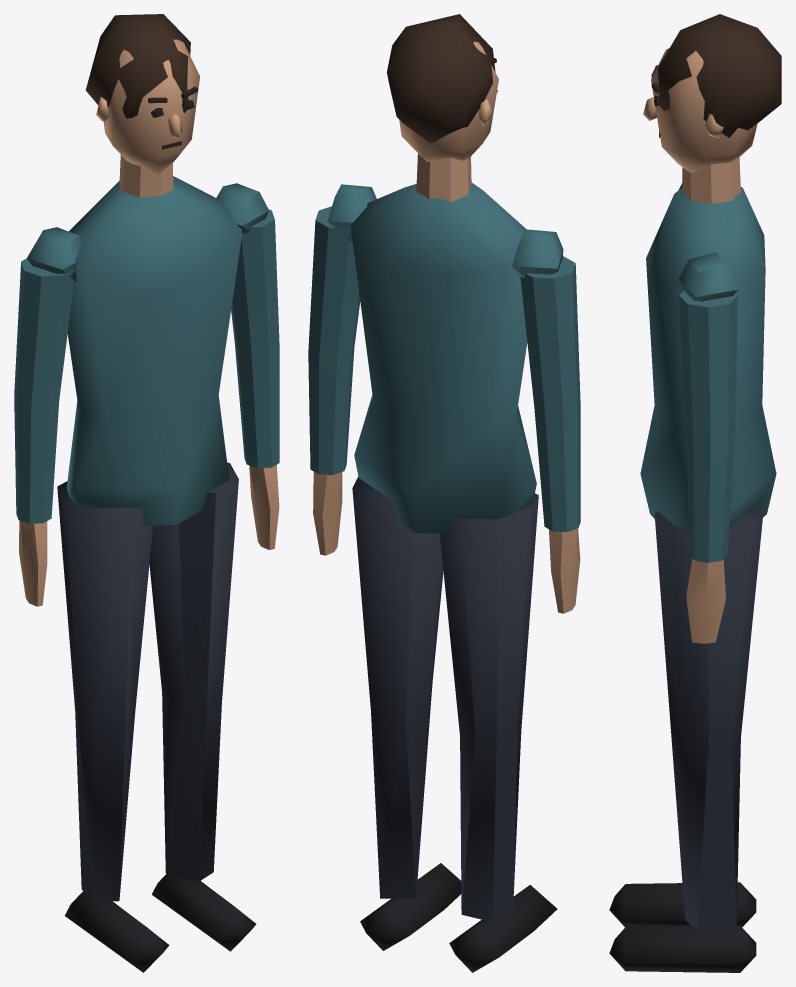
The model's file is pessoa-leve-leve.glb.
3 views of the same model, side by side, from view 1: azimuth 30°, elevation 25°; view 2: azimuth 150°, elevation 25°; view 3: azimuth 270°, elevation 25° (orthographic). The views are drawn at different scales.
Visible parts, largest first — view 1: tronco-torso, pernas-perna, pernas-perna.001, bracos-manga, bracos-manga.001, cabelo-cabelo, cabeca-cranio, pes-sapato.001, pes-sapato, maos-mao, maos-mao.001, tronco-ombro (+2 smaller); view 2: tronco-torso, pernas-perna, pernas-perna.001, bracos-manga, bracos-manga.001, cabelo-cabelo, pes-sapato.001, pes-sapato, cabeca-cranio, cabeca-pescoco, maos-mao, maos-mao.001 (+2 smaller); view 3: pernas-perna.001, tronco-torso, bracos-manga.001, cabelo-cabelo, pes-sapato.001, cabeca-cranio, pes-sapato, maos-mao.001, tronco-ombro.001, cabeca-pescoco.
Boxes of the visible parts, <box> form: tronco-torso: <box>66,176,242,525</box>; pernas-perna: <box>57,481,152,901</box>; pernas-perna.001: <box>149,462,238,881</box>; bracos-manga: <box>14,258,75,523</box>; bracos-manga.001: <box>231,209,279,468</box>; cabelo-cabelo: <box>85,14,190,118</box>; cabeca-cranio: <box>103,39,199,174</box>; pes-sapato.001: <box>152,873,256,951</box>; pes-sapato: <box>65,891,169,972</box>; maos-mao: <box>19,520,47,606</box>; maos-mao.001: <box>249,464,279,549</box>; tronco-ombro: <box>27,227,82,281</box>; tronco-torso: <box>351,183,536,533</box>; pernas-perna: <box>439,493,538,922</box>; pernas-perna.001: <box>352,476,443,898</box>; bracos-manga: <box>520,256,580,531</box>; bracos-manga.001: <box>308,206,360,474</box>; cabelo-cabelo: <box>387,14,497,142</box>; pes-sapato.001: <box>360,863,461,950</box>; pes-sapato: <box>449,885,557,972</box>; cabeca-cranio: <box>399,41,498,161</box>; cabeca-pescoco: <box>416,153,471,202</box>; maos-mao: <box>549,528,580,613</box>; maos-mao.001: <box>313,472,342,555</box>; pernas-perna.001: <box>654,507,763,930</box>; tronco-torso: <box>640,187,776,528</box>; bracos-manga.001: <box>679,291,737,562</box>; cabelo-cabelo: <box>658,14,781,137</box>; pes-sapato.001: <box>609,925,756,972</box>; cabeca-cranio: <box>651,48,757,172</box>; pes-sapato: <box>609,882,756,927</box>; maos-mao.001: <box>686,558,725,643</box>; tronco-ombro.001: <box>678,252,738,301</box>; cabeca-pescoco: <box>682,157,740,203</box>.
Bounding box in the file's own units: 0.538 × 1.8 × 0.3029.
